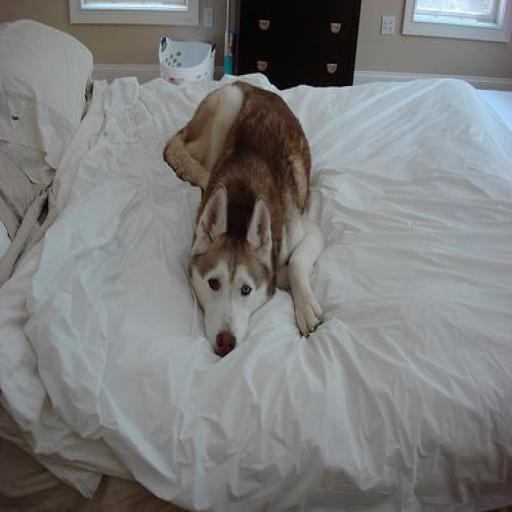dog_face: (189, 188, 270, 351)
